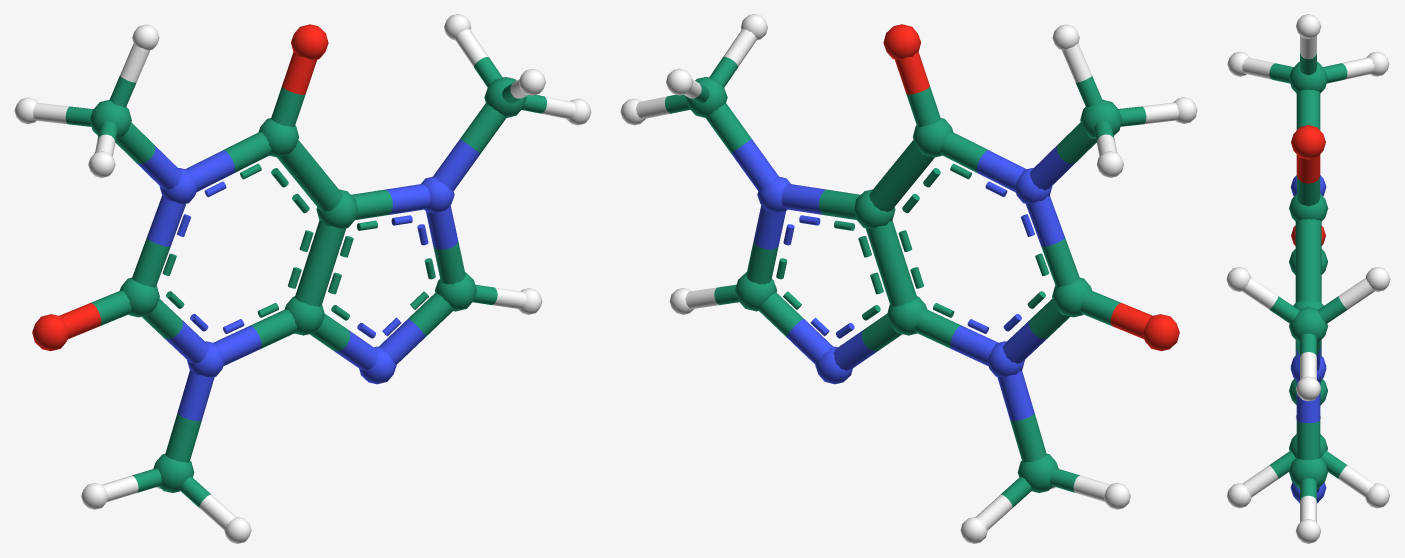
File: pubchem-caffeine-xyz-default.obj
3 renders of one model, left to right at view 1: azimuth 30°, elevation 25°; view 2: azimuth 150°, elevation 25°; view 3: azimuth 270°, elevation 25°, orthographic. The views are drawn at different scales.
Bounding box in the file's own units: 7.72 × 6.69 × 2.13.
